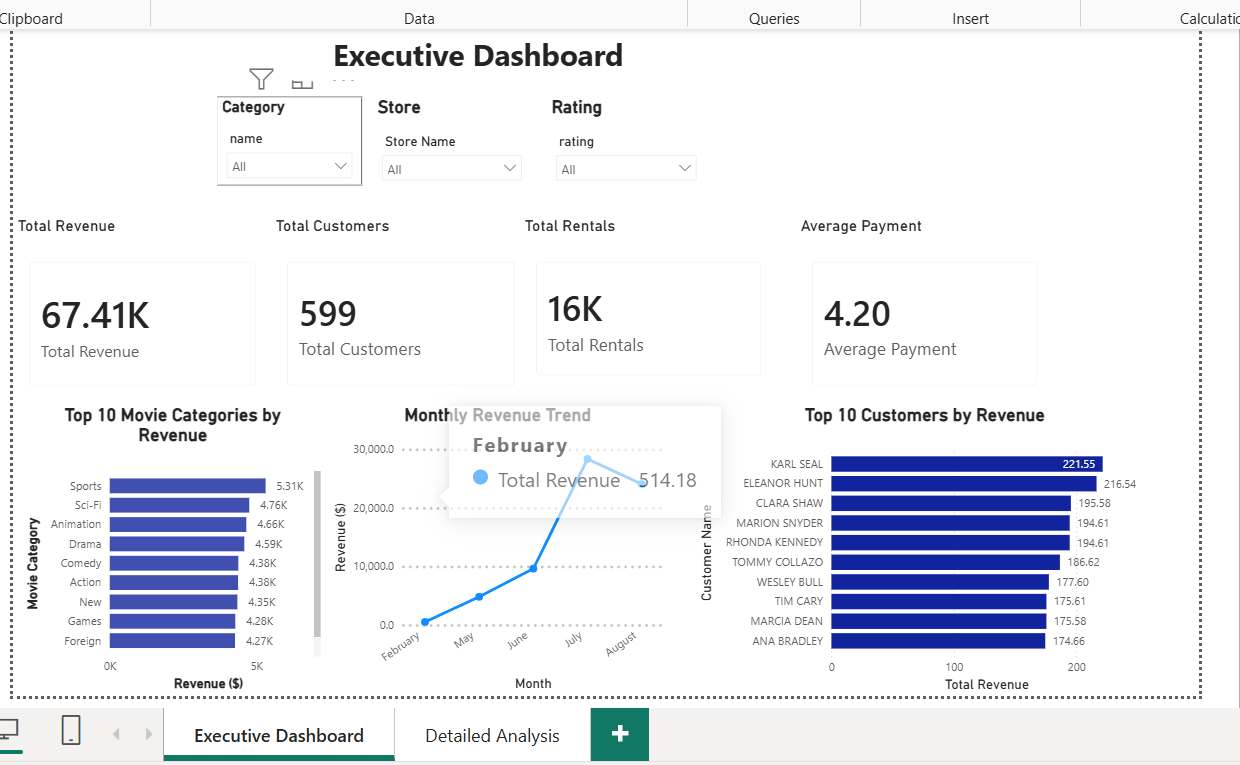

The dashboard page shown, as its layout file describes it:
{"tool":"powerbi","page":{"name":"Executive Dashboard","canvas":[1280,720],"ordinal":0},"visuals":[{"type":"cardVisual","title":"Total Revenue","fields":{"Data":["payment.Total Revenue"]},"box":[0,202.5,279,200],"z":0},{"type":"cardVisual","title":"Total Customers","fields":{"Data":["customer.Total Customers"]},"box":[279,202.5,280.2,200],"z":1000},{"type":"cardVisual","title":"Total Rentals","fields":{"Data":["rental.Total Rentals"]},"box":[546.9,202.5,277.8,188.9],"z":2000},{"type":"cardVisual","title":"Average Payment","fields":{"Data":["payment.Average Payment"]},"box":[845.7,202.5,277.8,200],"z":3000},{"type":"clusteredBarChart","title":"Top 10 Movie Categories by Revenue","fields":{"Category":["category.name"],"Y":["payment.Total Revenue"]},"box":[8.6,404.9,329,314.5],"z":4000},{"type":"lineChart","title":"Monthly Revenue Trend","fields":{"Category":["payment.payment_date.Variation.Date Hierarchy.Month"],"Y":["payment.Total Revenue"]},"box":[339.5,404.9,366.7,314.5],"z":5000},{"type":"clusteredBarChart","title":"Top 10 Customers by Revenue","fields":{"Category":["customer.Customer Name"],"Y":["payment.Total Revenue"]},"box":[734.6,404.9,498.8,314.8],"z":6000},{"type":"slicer","title":"Category","fields":{"Values":["category.name"]},"box":[219.8,72.8,156.8,96.3],"z":6001},{"type":"slicer","title":"Store","fields":{"Values":["store.Store Name"]},"box":[388.9,72.8,170.4,96.3],"z":6003},{"type":"slicer","title":"Rating","fields":{"Values":["film.rating"]},"box":[576.5,72.8,171.6,96.3],"z":6004},{"type":"textbox","box":[298.3,0,408.3,55],"z":6005}]}

Visuals, with their boxes on the page's 1280x720 design canvas (x1, y1, x2, y2). These are canvas units, not pixel positions in the 1240x765 screenshot, which may show the page scaled, cropped or inside an application window:
"Total Revenue" cardVisual: left=0, top=202, right=279, bottom=402
"Total Customers" cardVisual: left=279, top=202, right=559, bottom=402
"Total Rentals" cardVisual: left=547, top=202, right=825, bottom=391
"Average Payment" cardVisual: left=846, top=202, right=1124, bottom=402
"Top 10 Movie Categories by Revenue" clusteredBarChart: left=9, top=405, right=338, bottom=719
"Monthly Revenue Trend" lineChart: left=340, top=405, right=706, bottom=719
"Top 10 Customers by Revenue" clusteredBarChart: left=735, top=405, right=1233, bottom=720
"Category" slicer: left=220, top=73, right=377, bottom=169
"Store" slicer: left=389, top=73, right=559, bottom=169
"Rating" slicer: left=576, top=73, right=748, bottom=169
textbox: left=298, top=0, right=707, bottom=55
